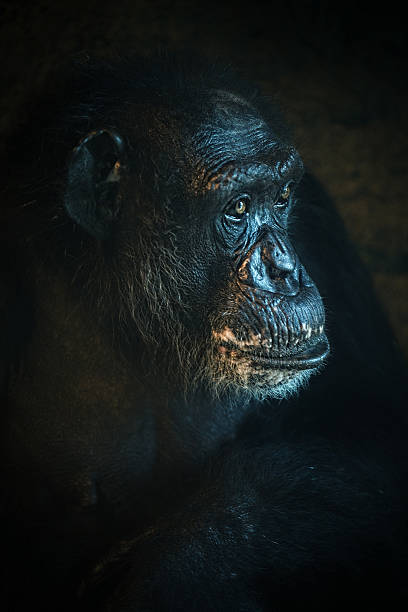chimpanzee: (56, 54, 360, 443)
